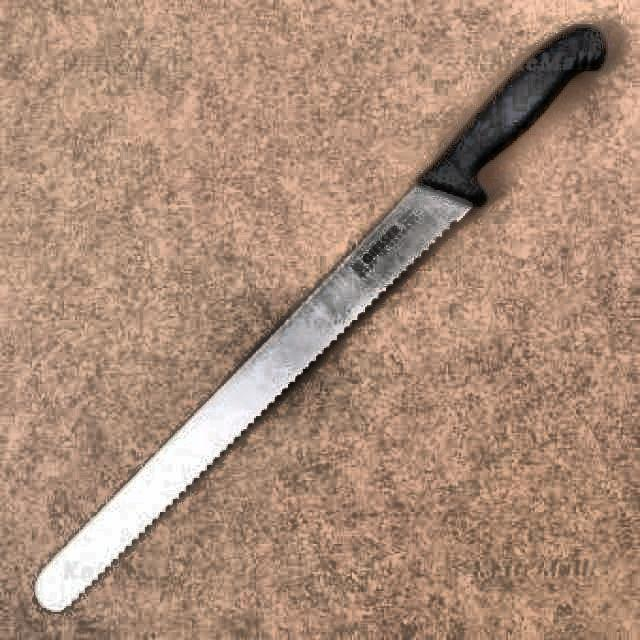knife: (36, 22, 612, 615)
